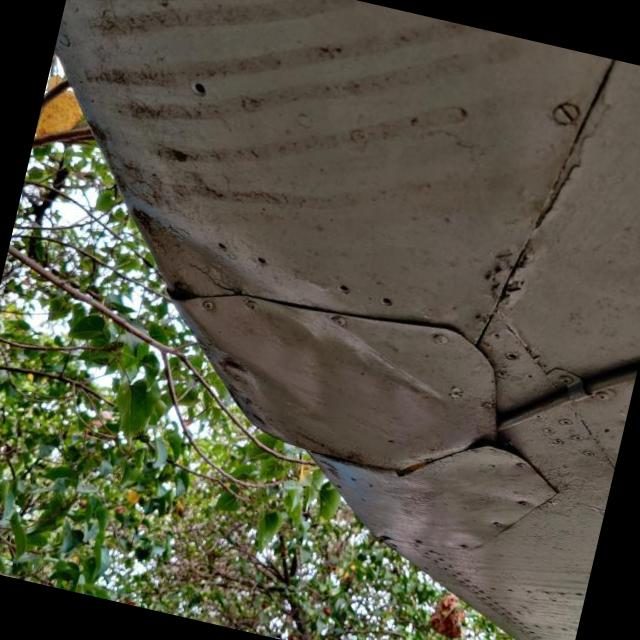Dent: (178, 296, 478, 468)
